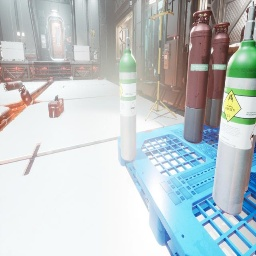0: (212, 1, 256, 215), (119, 26, 136, 161), (244, 16, 256, 192), (12, 59, 22, 61), (70, 76, 73, 80)
EmergencyPhone ,: (135, 58, 137, 66), (69, 36, 71, 42)
FireAlarm ,: (67, 38, 69, 42)
FireExtinguisher ]: (2, 77, 12, 83), (96, 77, 103, 80)
FirstAidBox ,: (48, 95, 64, 118), (50, 75, 54, 81), (0, 79, 1, 84)
NitrogenTank ,: (183, 10, 212, 144), (204, 22, 230, 128), (240, 4, 256, 43), (18, 85, 35, 108), (4, 80, 23, 91), (192, 21, 207, 27), (48, 79, 54, 86), (64, 58, 69, 61)
SafetySwitchPanel ,: (164, 43, 171, 69), (41, 34, 46, 48)
